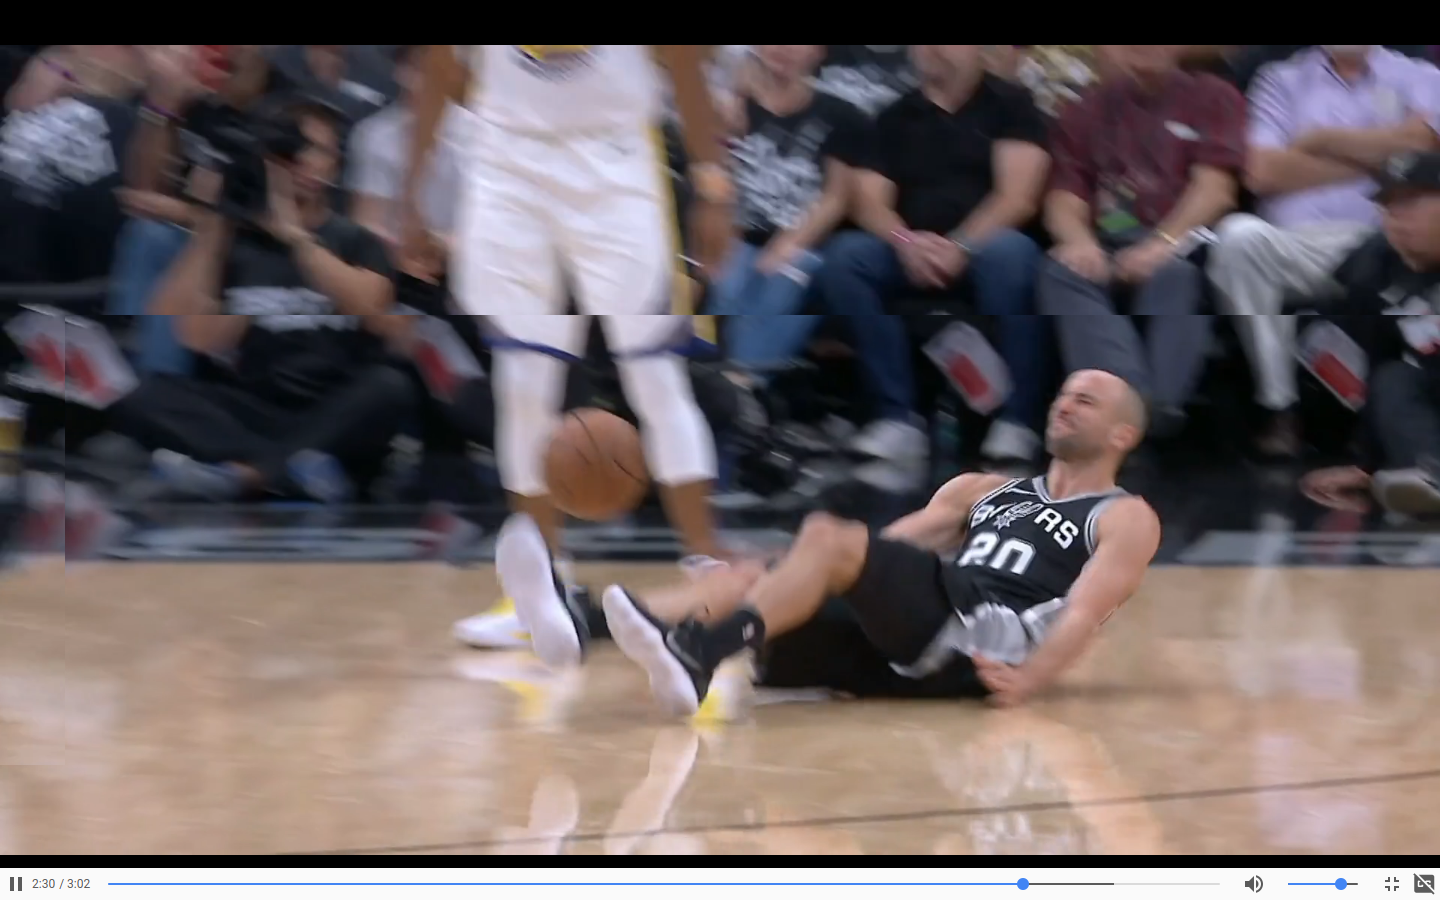basketball: (533, 397, 650, 529)
basketball player: (615, 362, 1188, 722), (393, 49, 735, 585)
